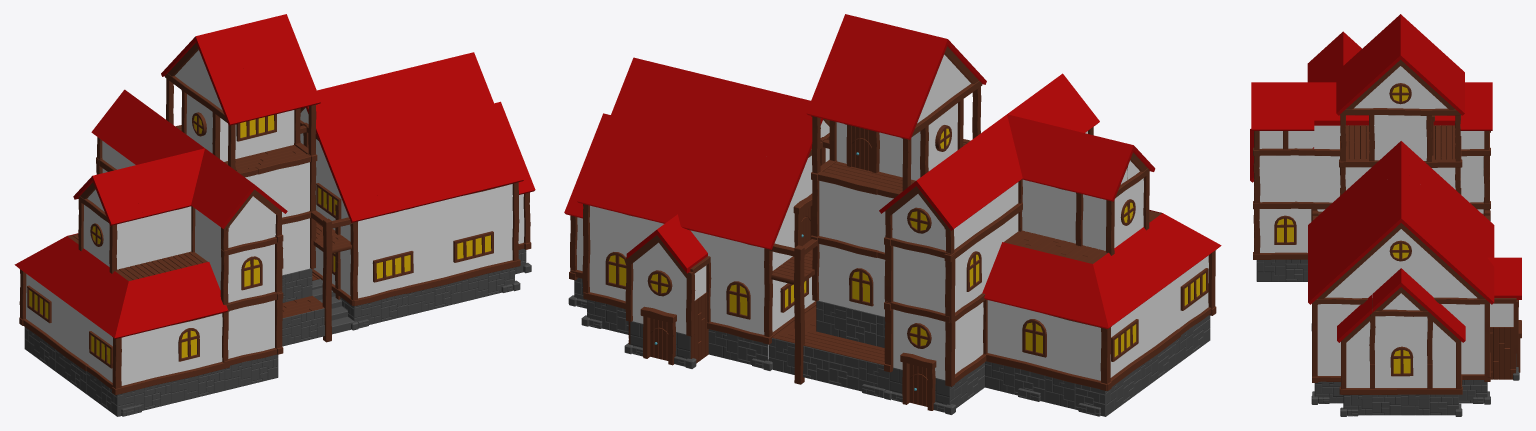
Rendered from Full_House_8.fbx.
3 views of the same model, side by side, from view 1: azimuth 30°, elevation 25°; view 2: azimuth 150°, elevation 25°; view 3: azimuth 270°, elevation 25° (orthographic). The views are drawn at different scales.
Parts seen in each view (by area): view 1: Roof_Full, Stone_Wall_LOD0, Wall_Large6, Wall_small_origin49, Beams_Full, Wall_Large, Wood_Floor_LOD0, Wall_small15, Wall_small9, Roof_Edge_6, Roof_Edge_5, Roof_Edge5 (+43 smaller); view 2: Roof_Full, Stone_Wall_LOD0, Wall_small_origin49, Beams_Full, Wall_Large6, Wood_Floor_LOD0, Wall_small8, Wood_Door_LOD0, Wall_small16, Wall_small18, Roof_Edge4, Roof_Edge6 (+45 smaller); view 3: Wall_Large6, Roof_Full, Stone_Wall_LOD0, Beams_Full, Wood_Floor_LOD0, Wall_small, Wall_small_origin49, Wall_small12, Wall_small1, Wall_small3, Wall_small4, Roof_Edge_no_9 (+90 smaller).
Part boxes in pixels (x1=…): Roof_Full: x1=14, y1=89, x2=287, y2=338; Stone_Wall_LOD0: x1=24, y1=249, x2=526, y2=416; Wall_Large6: x1=26, y1=168, x2=222, y2=385; Wall_small_origin49: x1=83, y1=141, x2=275, y2=382; Beams_Full: x1=19, y1=137, x2=283, y2=395; Wall_Large: x1=408, y1=206, x2=512, y2=285; Wood_Floor_LOD0: x1=68, y1=128, x2=351, y2=317; Wall_small15: x1=357, y1=231, x2=407, y2=298; Wall_small9: x1=258, y1=162, x2=309, y2=217; Roof_Edge_6: x1=211, y1=68, x2=262, y2=126; Roof_Edge_5: x1=333, y1=165, x2=384, y2=222; Roof_Edge5: x1=270, y1=53, x2=320, y2=111; Roof_Full: x1=879, y1=73, x2=1221, y2=328; Stone_Wall_LOD0: x1=574, y1=277, x2=1210, y2=416; Wall_small_origin49: x1=892, y1=131, x2=1208, y2=373; Beams_Full: x1=884, y1=127, x2=1216, y2=390; Wall_Large6: x1=955, y1=171, x2=1175, y2=380; Wood_Floor_LOD0: x1=628, y1=142, x2=1161, y2=364; Wall_small8: x1=819, y1=181, x2=876, y2=249; Wood_Door_LOD0: x1=650, y1=126, x2=927, y2=406; Wall_small16: x1=710, y1=260, x2=764, y2=334; Wall_small18: x1=818, y1=244, x2=876, y2=314; Roof_Edge4: x1=734, y1=184, x2=791, y2=249; Roof_Edge6: x1=872, y1=74, x2=930, y2=140; Wall_Large6: x1=1259, y1=155, x2=1484, y2=252; Roof_Full: x1=1250, y1=31, x2=1492, y2=182; Stone_Wall_LOD0: x1=1256, y1=259, x2=1487, y2=415; Beams_Full: x1=1253, y1=131, x2=1490, y2=259; Wood_Floor_LOD0: x1=1345, y1=125, x2=1515, y2=379; Wall_small: x1=1374, y1=316, x2=1427, y2=363; Wall_small_origin49: x1=1259, y1=125, x2=1484, y2=149; Wall_small12: x1=1374, y1=115, x2=1426, y2=160; Wall_small1: x1=1372, y1=247, x2=1429, y2=297; Wall_small3: x1=1317, y1=304, x2=1360, y2=351; Wall_small4: x1=1441, y1=304, x2=1484, y2=351; Roof_Edge_no_9: x1=1488, y1=257, x2=1521, y2=306.
Size of what is drawn, in the model's own units: 0.1744 by 0.1039 by 0.0946.
